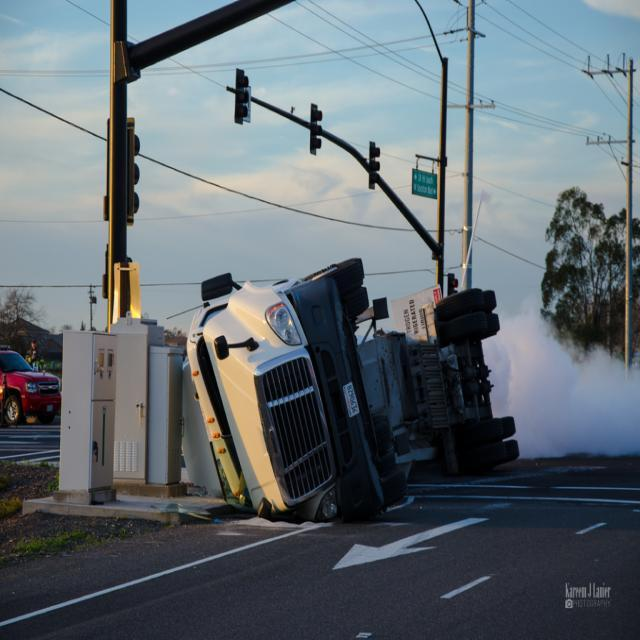off traffic light: (234, 67, 248, 124), (310, 104, 323, 154), (368, 142, 380, 186)
